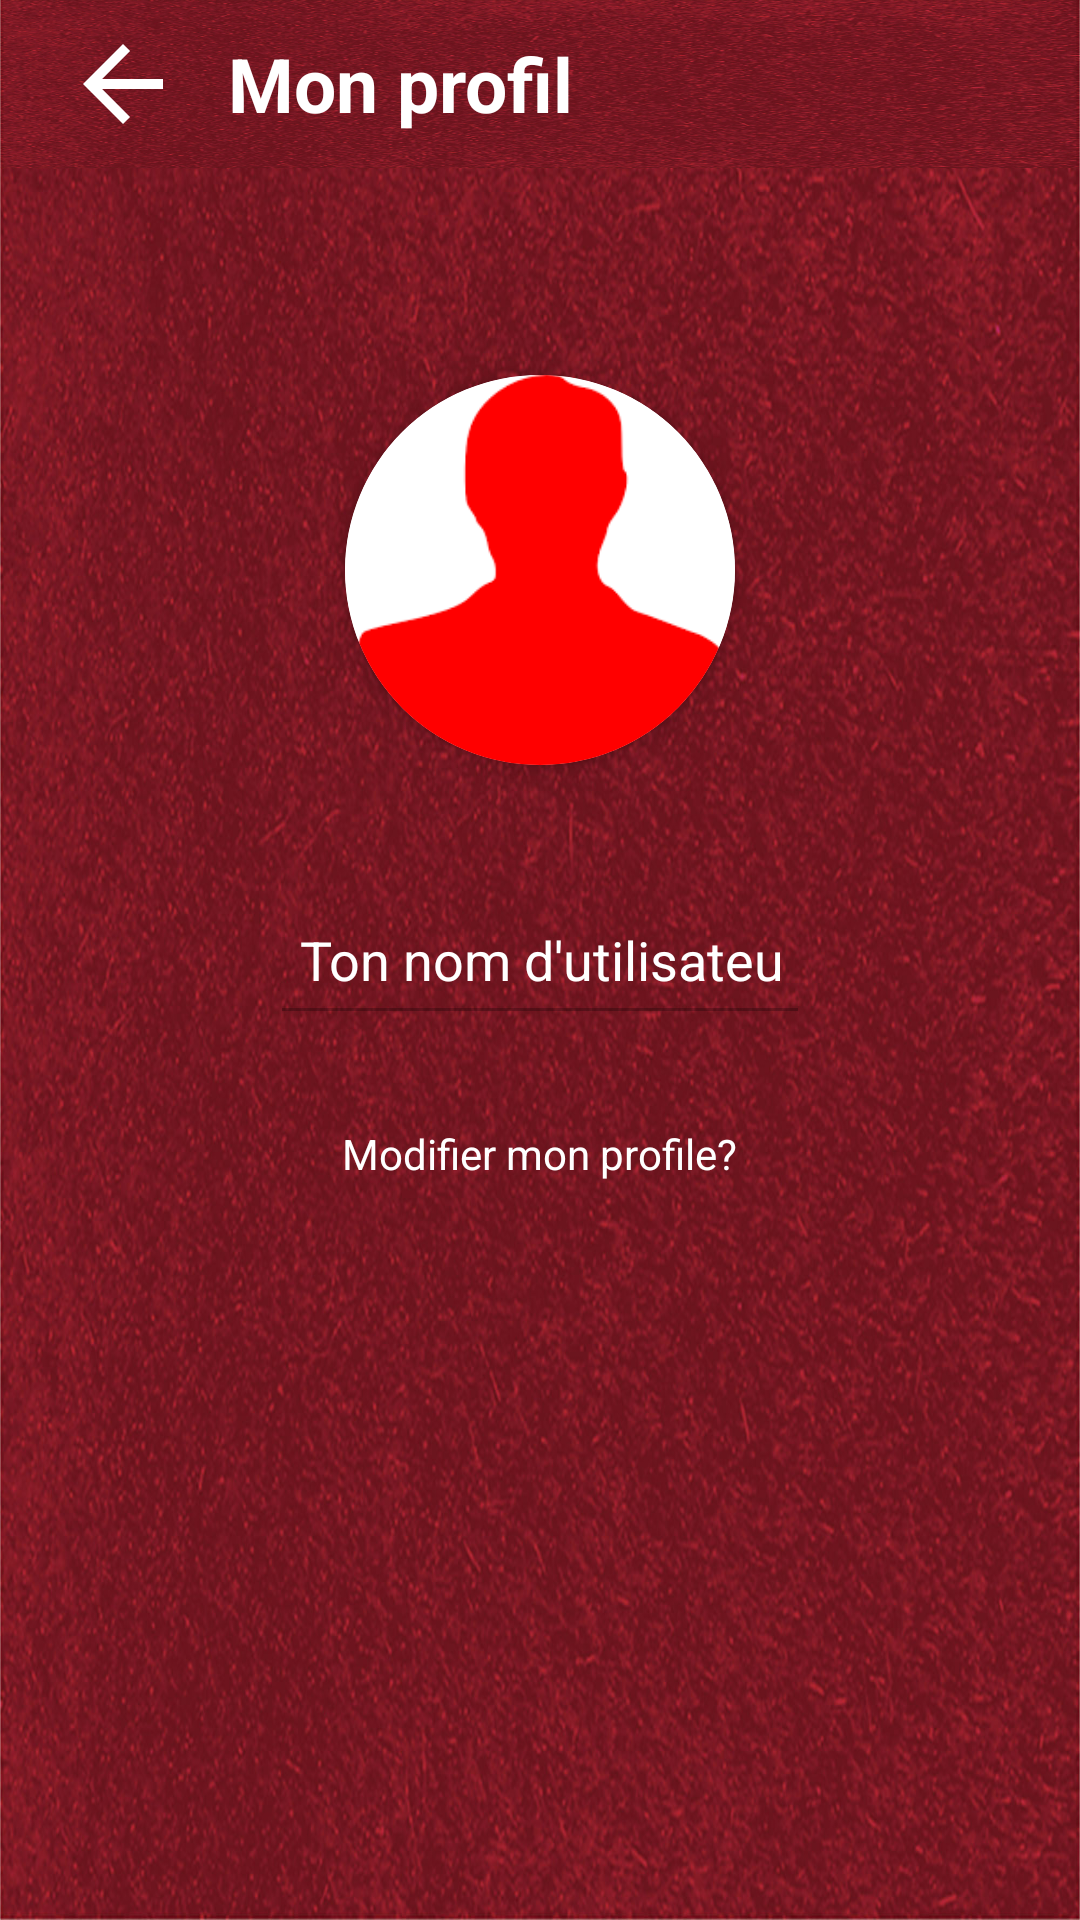

Icons on this 1080*1920 Android screen, each with the point to tap as (x,y):
arrow back: (123,84)
